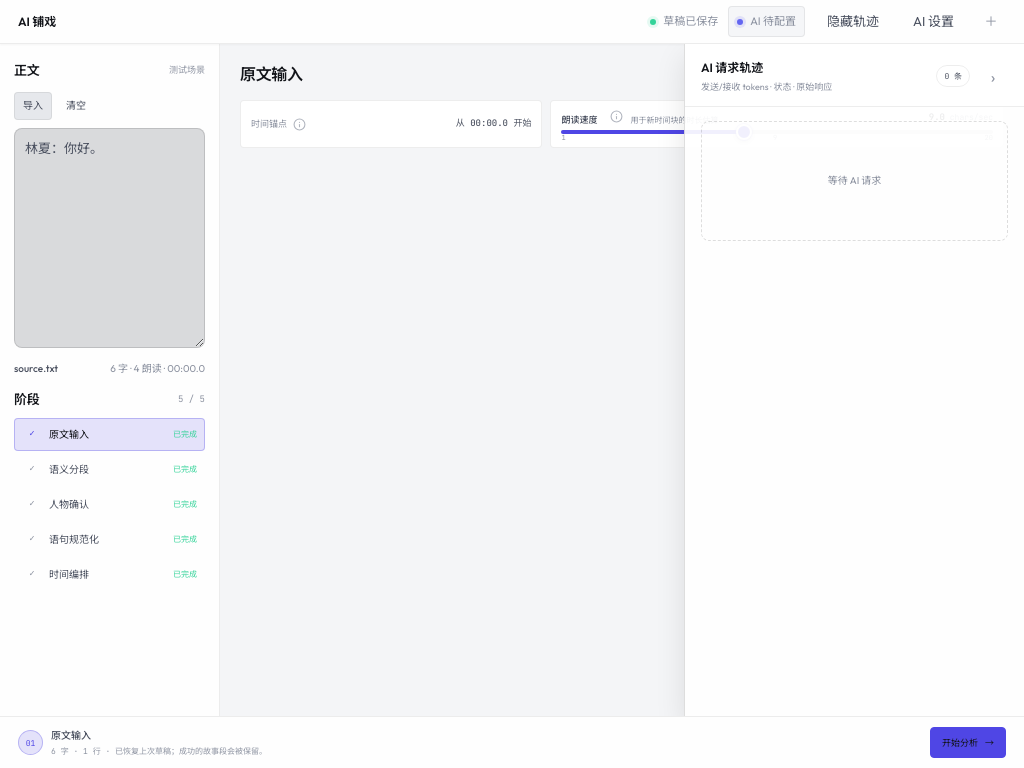
AiProseWorkbench › refuses to apply a draft enhancement bound to a stale document version
The width and height of the screenshot is (1024, 768).
Expected: the text box named "完整正文" is shown, [14,128,205,348]
What coordinates should you click on to do the following:
click the tab "✓ 时间编排 已完成"
I would click on:
 (110, 574)
Its box is [14,558,205,590].
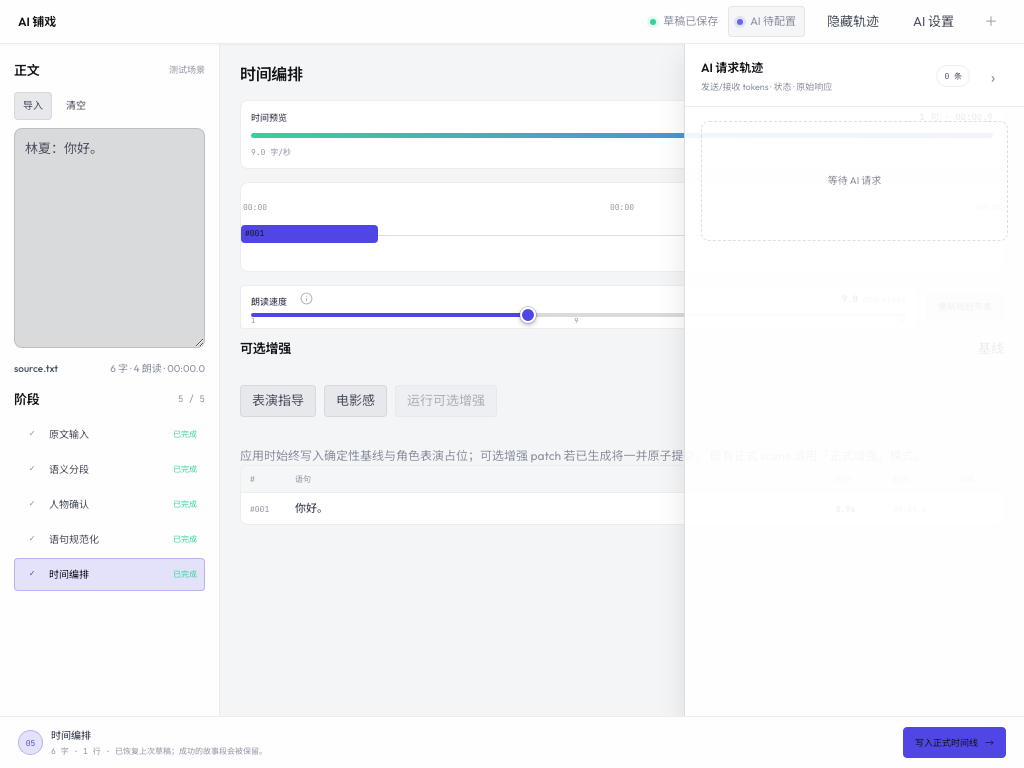
What coordinates should you click on to do the following:
click the button "表演指导"
I would click on:
 (278, 401)
Its box is [240,385,316,417].
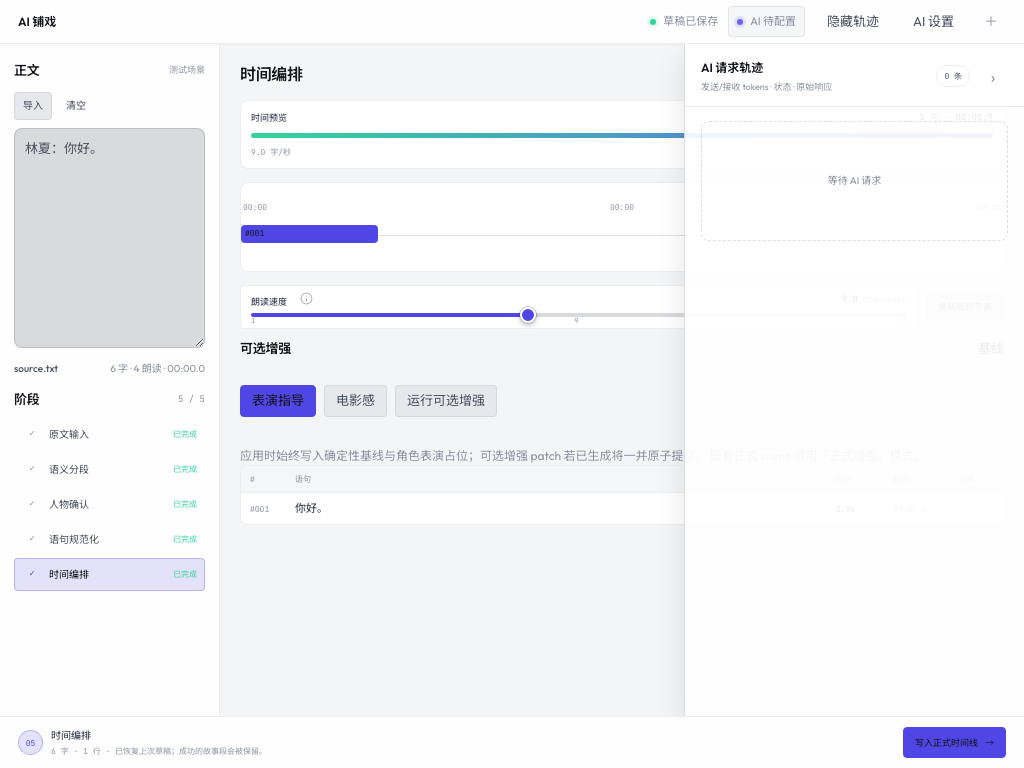
What coordinates should you click on to do the following:
click the button "运行可选增强"
I would click on:
 (446, 401)
Its box is [395,385,497,417].
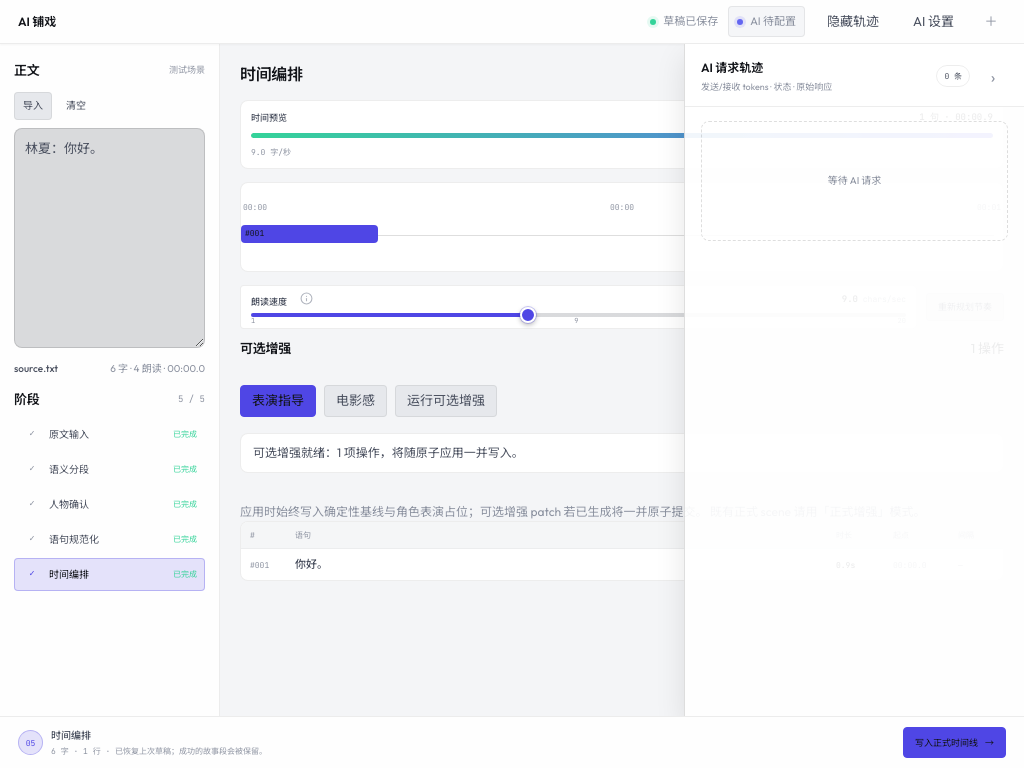
What coordinates should you click on to do the following:
click the button "写入正式时间线 →"
I would click on:
 (954, 742)
Its box is [903,727,1006,758].
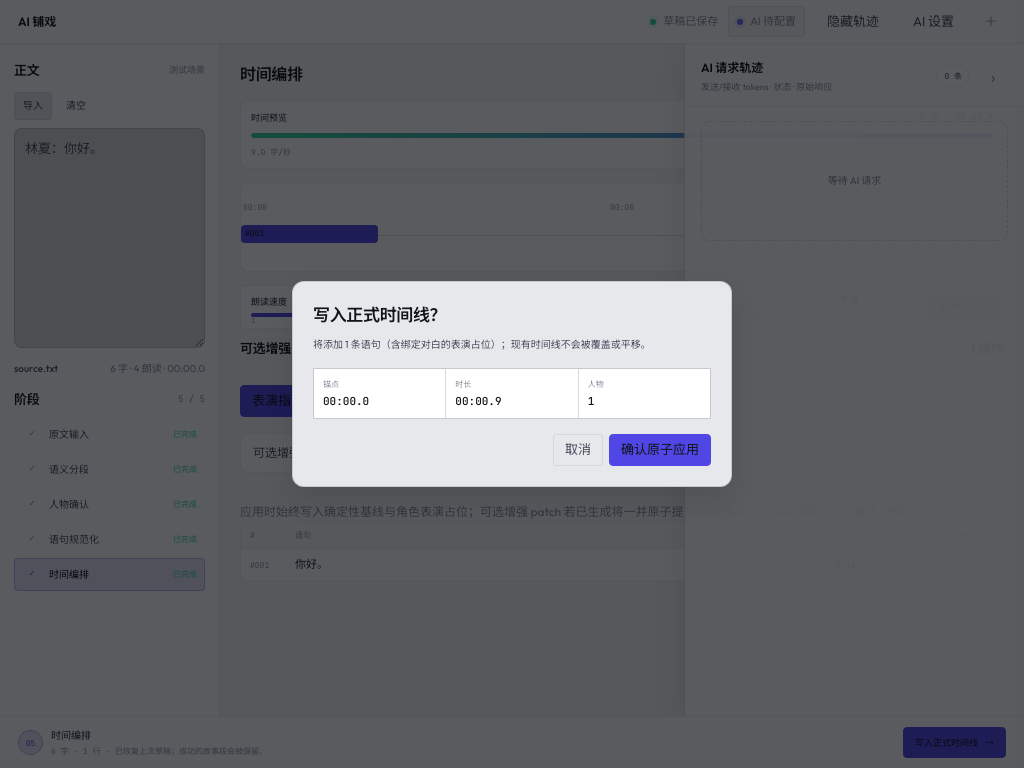
What coordinates should you click on to do the following:
click the button "确认原子应用"
I would click on:
 (660, 450)
Its box is [609,434,711,466].
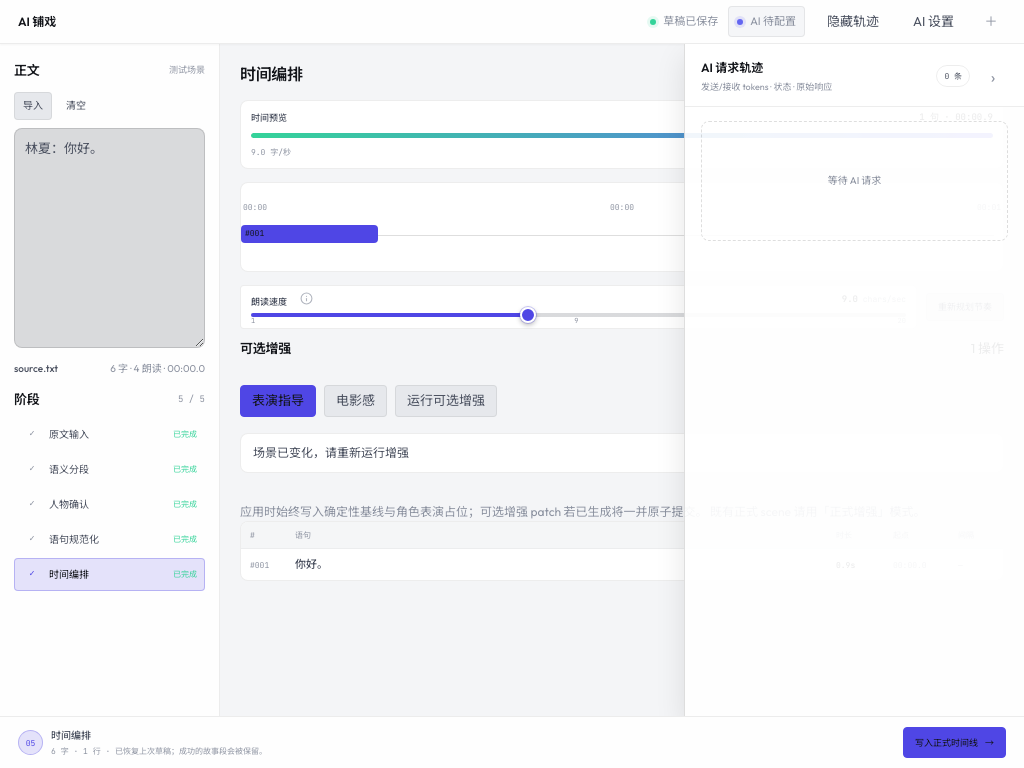
Expected: the text "场景已变化，请重新运行增强" is shown, [240,433,1004,473]
